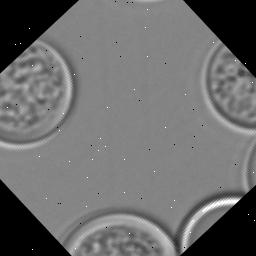picoshell: (0, 40, 76, 150), (201, 42, 256, 134), (64, 213, 175, 256), (177, 194, 243, 256), (242, 140, 256, 192)
